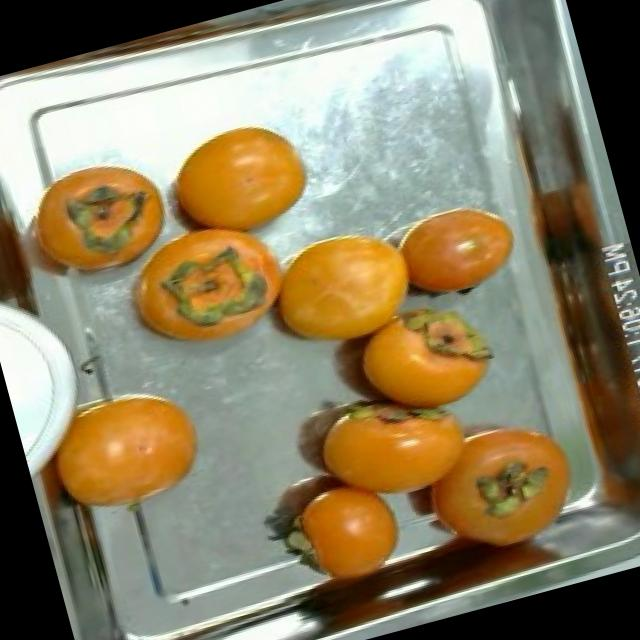Fruit: (18, 356, 230, 538), (0, 135, 191, 304), (241, 204, 431, 373), (144, 100, 329, 260), (264, 455, 422, 595), (374, 188, 534, 320)
